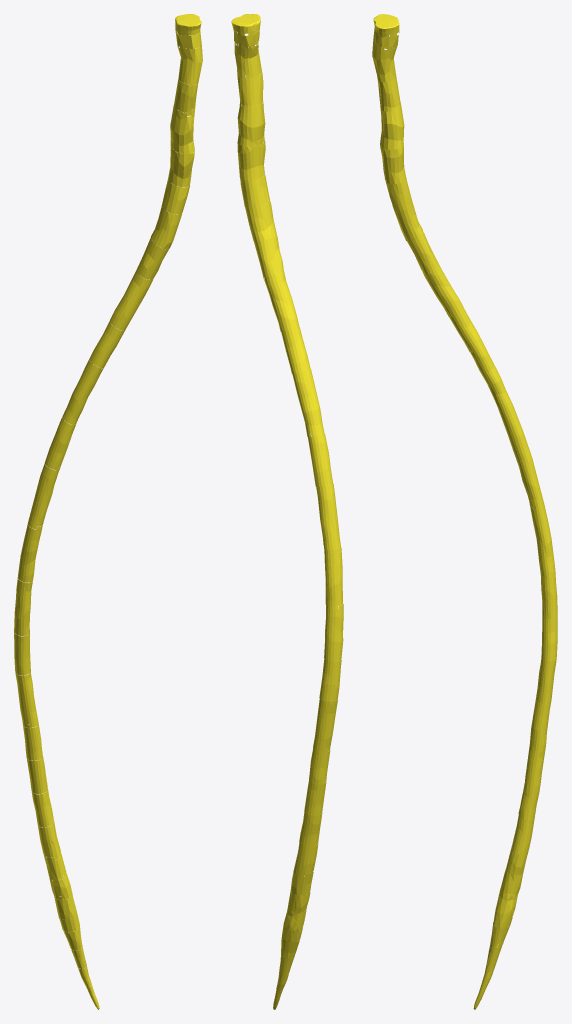
File: VH_M_Spinal_Cord_0.2.glb
3 views of the same model, side by side, from view 1: azimuth 90°, elevation 25°; view 2: azimuth 210°, elevation 25°; view 3: azimuth 270°, elevation 25° (orthographic). The views are drawn at different scales.
Parts seen in each view (by area): view 1: VH_M_second_thoracic_spinal_cord_segment, VH_M_fourth_thoracic_spinal_cord_segment, VH_M_sixth_thoracic_spinal_cord_segment, VH_M_C5_segment_of_cervical_spinal_cord, VH_M_seventh_thoracic_spinal_cord_segment, VH_M_tenth_thoracic_spinal_cord_segment, VH_M_eighth_thoracic_spinal_cord_segment, VH_M_C3_segment_of_cervical_spinal_cord, VH_M_fifth_thoracic_spinal_cord_segment, VH_M_C8_segment_of_cervical_spinal_cord, VH_M_third_thoracic_spinal_cord_segment, VH_M_C6_segment_of_cervical_spinal_cord (+9 smaller); view 2: VH_M_fourth_thoracic_spinal_cord_segment, VH_M_second_thoracic_spinal_cord_segment, VH_M_sixth_thoracic_spinal_cord_segment, VH_M_C5_segment_of_cervical_spinal_cord, VH_M_seventh_thoracic_spinal_cord_segment, VH_M_eighth_thoracic_spinal_cord_segment, VH_M_fifth_thoracic_spinal_cord_segment, VH_M_tenth_thoracic_spinal_cord_segment, VH_M_C6_segment_of_cervical_spinal_cord, VH_M_C8_segment_of_cervical_spinal_cord, VH_M_third_thoracic_spinal_cord_segment, VH_M_first_thoracic_spinal_cord_segment (+13 smaller); view 3: VH_M_second_thoracic_spinal_cord_segment, VH_M_fourth_thoracic_spinal_cord_segment, VH_M_sixth_thoracic_spinal_cord_segment, VH_M_C5_segment_of_cervical_spinal_cord, VH_M_seventh_thoracic_spinal_cord_segment, VH_M_tenth_thoracic_spinal_cord_segment, VH_M_eighth_thoracic_spinal_cord_segment, VH_M_fifth_thoracic_spinal_cord_segment, VH_M_C6_segment_of_cervical_spinal_cord, VH_M_C3_segment_of_cervical_spinal_cord, VH_M_third_thoracic_spinal_cord_segment, VH_M_ninth_thoracic_spinal_cord_segment (+9 smaller).
Part boxes in pixels (x1,y1,x2,y2): VH_M_second_thoracic_spinal_cord_segment: (109,270,152,330); VH_M_fourth_thoracic_spinal_cord_segment: (62,359,103,424); VH_M_sixth_thoracic_spinal_cord_segment: (27,464,60,529); VH_M_C5_segment_of_cervical_spinal_cord: (170,105,194,153); VH_M_seventh_thoracic_spinal_cord_segment: (17,524,42,582); VH_M_tenth_thoracic_spinal_cord_segment: (15,669,38,727); VH_M_eighth_thoracic_spinal_cord_segment: (14,578,32,635); VH_M_C3_segment_of_cervical_spinal_cord: (178,44,202,85); VH_M_fifth_thoracic_spinal_cord_segment: (44,417,75,470); VH_M_C8_segment_of_cervical_spinal_cord: (151,205,181,249); VH_M_third_thoracic_spinal_cord_segment: (89,321,124,367); VH_M_C6_segment_of_cervical_spinal_cord: (168,145,194,187); VH_M_fourth_thoracic_spinal_cord_segment: (292,369,324,436); VH_M_second_thoracic_spinal_cord_segment: (264,271,299,331); VH_M_sixth_thoracic_spinal_cord_segment: (316,483,340,550); VH_M_C5_segment_of_cervical_spinal_cord: (237,101,265,147); VH_M_seventh_thoracic_spinal_cord_segment: (324,547,342,609); VH_M_eighth_thoracic_spinal_cord_segment: (324,604,343,661); VH_M_fifth_thoracic_spinal_cord_segment: (308,433,332,486); VH_M_tenth_thoracic_spinal_cord_segment: (313,699,337,752); VH_M_C6_segment_of_cervical_spinal_cord: (237,141,265,179); VH_M_C8_segment_of_cervical_spinal_cord: (245,201,276,241); VH_M_third_thoracic_spinal_cord_segment: (281,327,310,373); VH_M_first_thoracic_spinal_cord_segment: (254,236,283,280); VH_M_second_thoracic_spinal_cord_segment: (422,260,463,317); VH_M_fourth_thoracic_spinal_cord_segment: (470,344,510,406); VH_M_sixth_thoracic_spinal_cord_segment: (512,445,544,509); VH_M_C5_segment_of_cervical_spinal_cord: (380,102,404,149); VH_M_seventh_thoracic_spinal_cord_segment: (529,502,554,564); VH_M_tenth_thoracic_spinal_cord_segment: (534,659,556,716); VH_M_eighth_thoracic_spinal_cord_segment: (539,562,557,618); VH_M_fifth_thoracic_spinal_cord_segment: (497,399,527,450); VH_M_C6_segment_of_cervical_spinal_cord: (380,143,406,184); VH_M_C3_segment_of_cervical_spinal_cord: (372,41,396,82); VH_M_third_thoracic_spinal_cord_segment: (449,308,483,352); VH_M_ninth_thoracic_spinal_cord_segment: (541,614,557,661).
Size of the model in its own units: 0.021 by 0.4652 by 0.0798.
